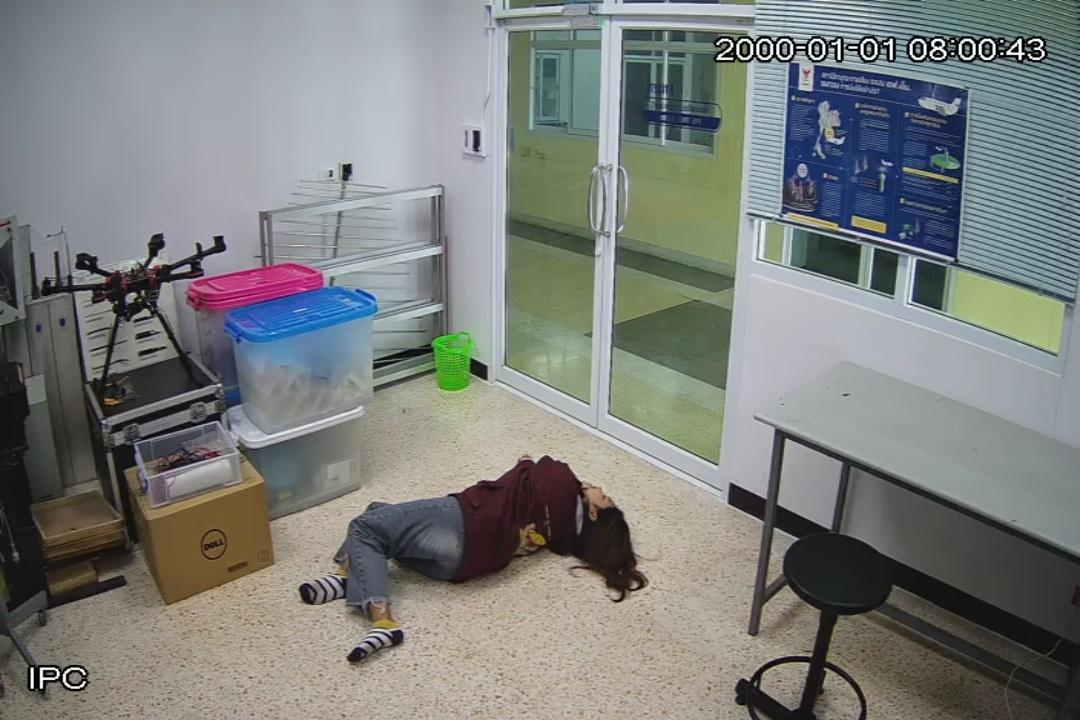fall: (298, 456, 633, 662)
